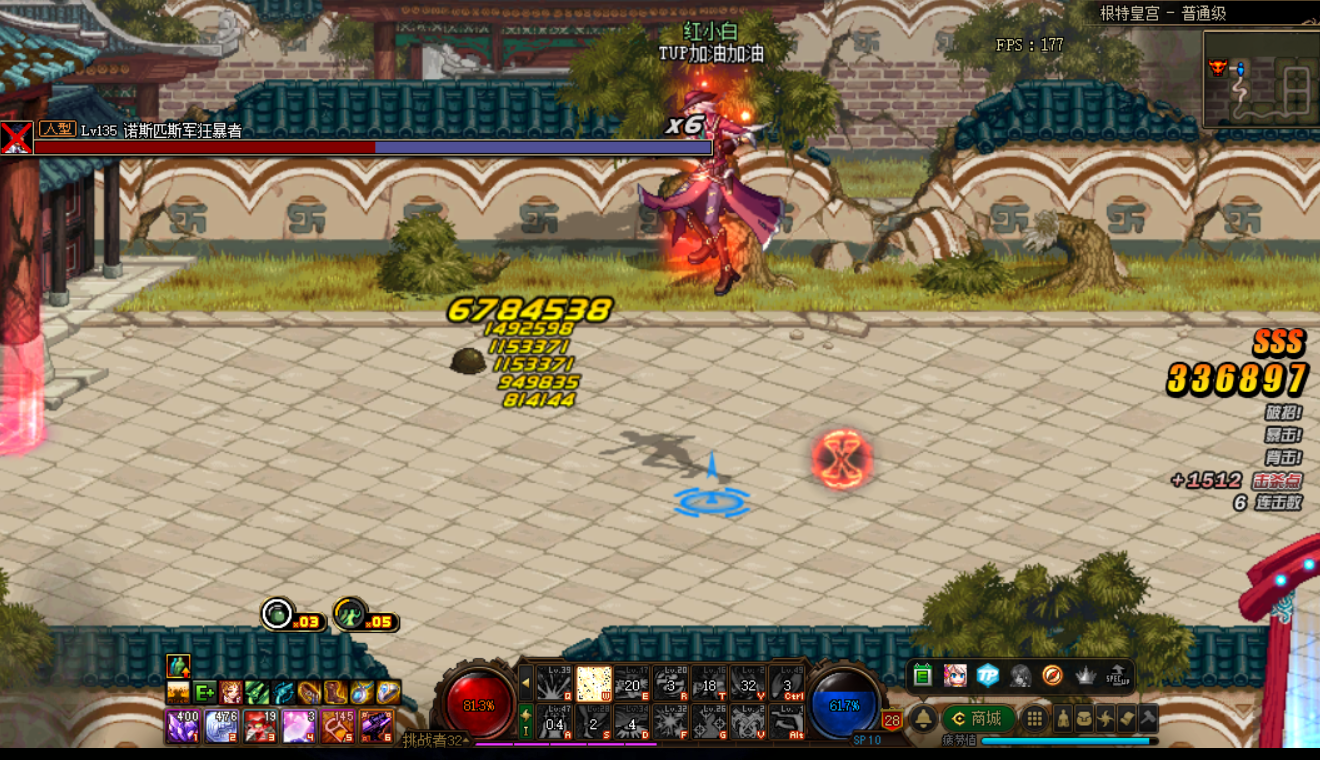warrior: (650, 80, 787, 296)
